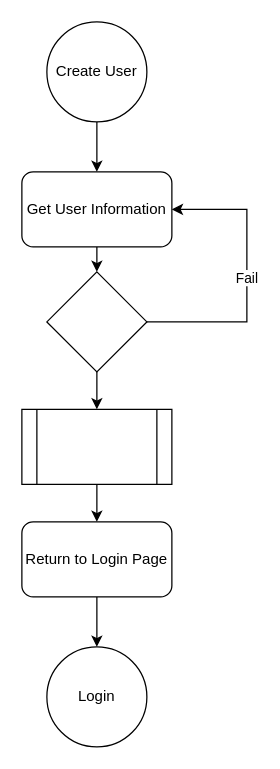
The diagram is 280 pixels wide and 769 high, and some of its shapes have lost their labels. The shapes that lost their labels are listed below. From the top down, each one's centre as x and y in pixels, then its label:
At [96,321]: "Validate User Info".
At [96,446]: "Write User Info to Database".
